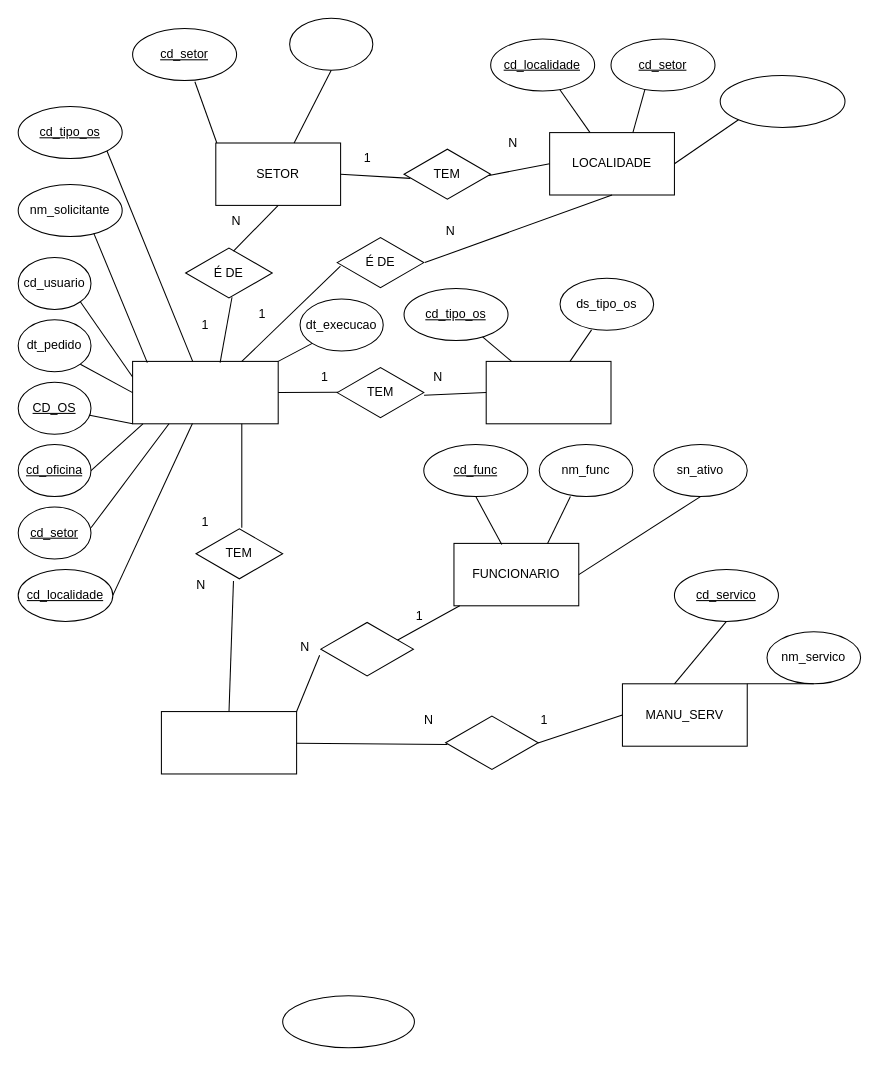
Image size: 879x1066. Some labels were removed from this diagram. Here are the shapes that lost their labels. From the top down, the centre of each, then its label:
the point at 331,43: nm_setor
the point at 782,100: DS_LOCALIDADE
the point at 205,392: SOLICITACAO_OS
the point at 548,392: TIPO_OS
the point at 366,648: FAZ
the point at 228,742: ITSOLICITACAO_OS
the point at 491,742: É UM
the point at 348,1021: cd_itsolicitacao_os
